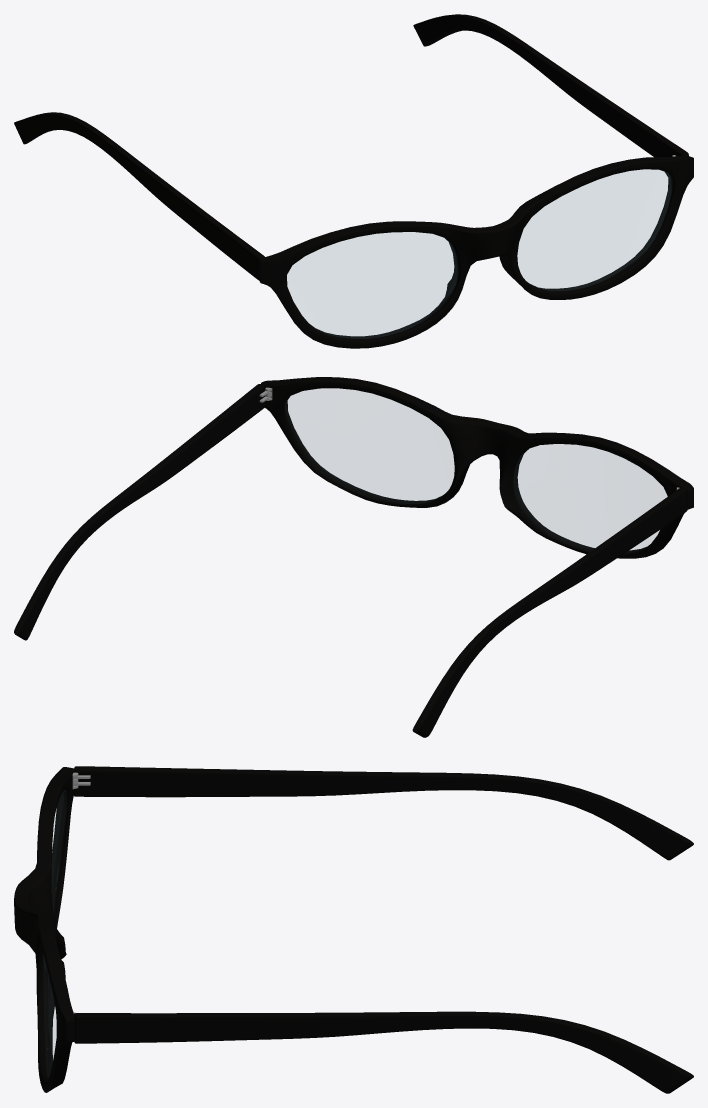
The model's file is Modelo_5.fbx.
3 renders of one model, top to bottom at view 1: azimuth 30°, elevation 25°; view 2: azimuth 150°, elevation 25°; view 3: azimuth 270°, elevation 25°, orthographic. The views are drawn at different scales.
Parts seen in each view (by area): view 1: lentes_5, Marco_5, Pata_izquierda_5, Pata_derecha_5; view 2: lentes_5, Marco_5, Pata_derecha_5, Pata_izquierda_5; view 3: Pata_izquierda_5, Pata_derecha_5, Marco_5, lentes_5.
Boxes of the visible parts, box(x1,y1,x2,y2) form: lentes_5: box(287, 170, 671, 338); Marco_5: box(259, 155, 693, 348); Pata_izquierda_5: box(413, 14, 688, 157); Pata_derecha_5: box(14, 112, 264, 280); lentes_5: box(285, 389, 666, 551); Marco_5: box(261, 377, 693, 558); Pata_derecha_5: box(412, 486, 687, 737); Pata_izquierda_5: box(14, 384, 264, 640); Pata_izquierda_5: box(74, 1011, 693, 1093); Pata_derecha_5: box(74, 766, 693, 860); Marco_5: box(14, 767, 74, 1092); lentes_5: box(43, 790, 65, 1070).
Size of the model in its own units: 18.59 by 4.9 by 21.14.
